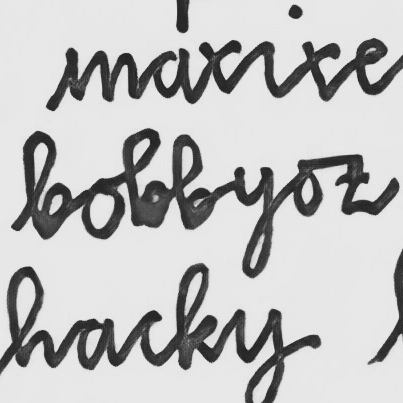b: (20, 129, 74, 241), (119, 126, 173, 229), (169, 132, 218, 232)
o: (79, 176, 126, 241), (290, 161, 324, 220)
y: (232, 162, 276, 280)
z: (327, 150, 376, 219)
